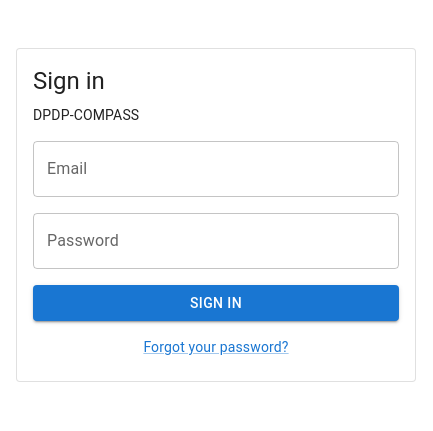
it: LoginPage › shows the server error message on failed login
Type "admin@test.local" into the field labelled "Email".
click(216, 169); type("admin@test.local")  # box [33,141,399,197]
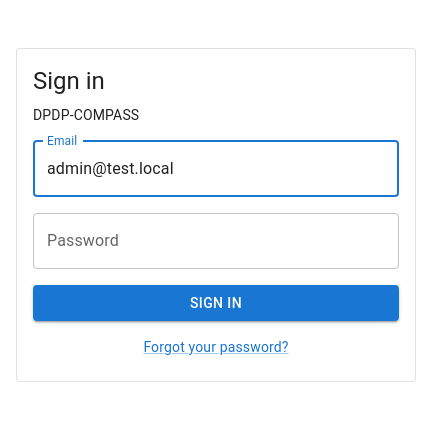
Type "wrong-password" into the password field labelled "Password".
click(216, 241); type("wrong-password")  # box [33,213,399,269]
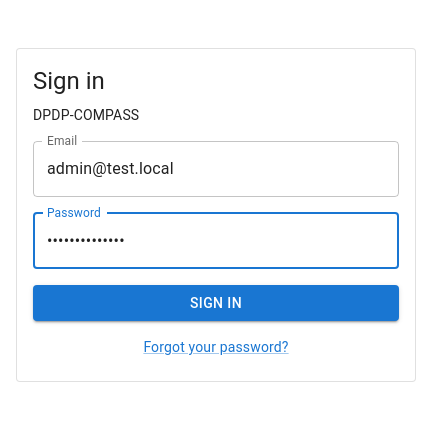
Click the button "Sign in".
click(216, 303)  # box [33,285,399,322]
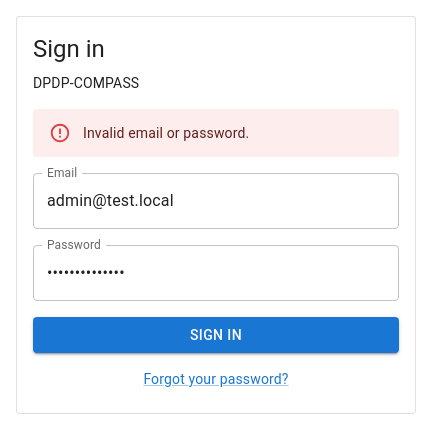
Expected: the text "Invalid email or password." is shown, [83,125,249,141]
